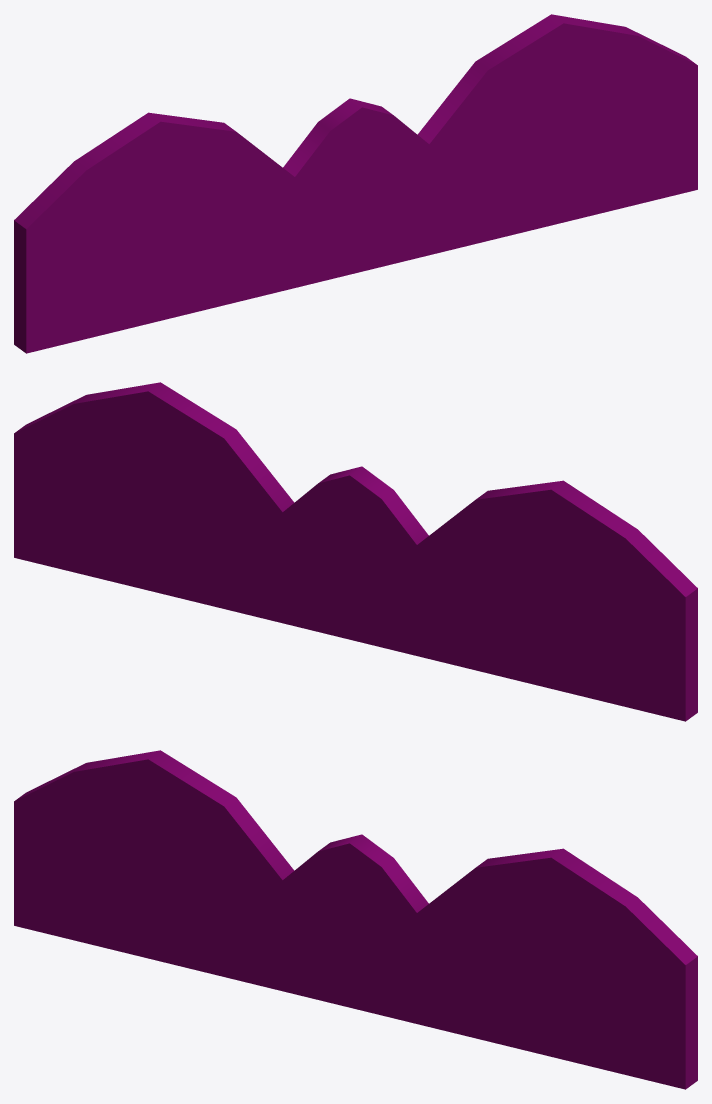
Rendered from 3D_STALDAKPLAAT_001.FBX.
The picture shows the model from 3 angles, top to bottom: view 1: azimuth 30°, elevation 25°; view 2: azimuth 150°, elevation 25°; view 3: azimuth 330°, elevation 25°; orthographic projection.
Parts seen in each view (by area): view 1: 3D_STALDAKPLAAT_001; view 2: 3D_STALDAKPLAAT_001; view 3: 3D_STALDAKPLAAT_001.
Part boxes in pixels (x1=…): 3D_STALDAKPLAAT_001: x1=14, y1=14, x2=697, y2=353; 3D_STALDAKPLAAT_001: x1=14, y1=382, x2=697, y2=721; 3D_STALDAKPLAAT_001: x1=14, y1=750, x2=697, y2=1089.
Size of the model in its own units: 769 by 218 by 24.45.
